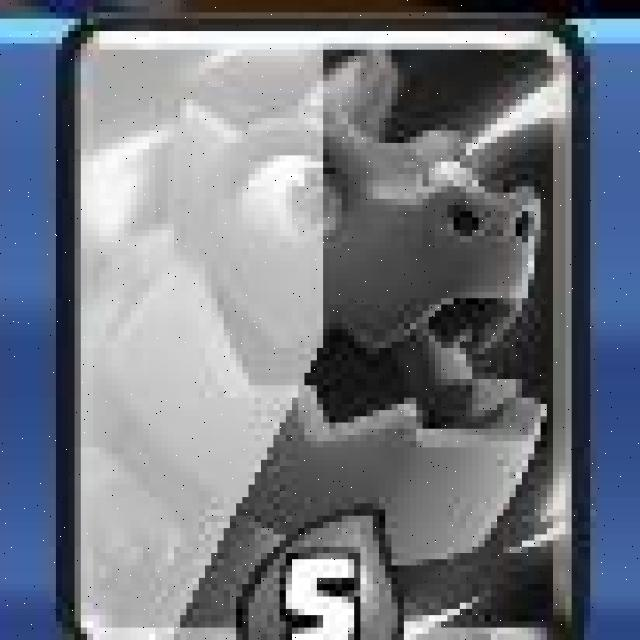Electro_Dragon: (50, 15, 591, 640)
